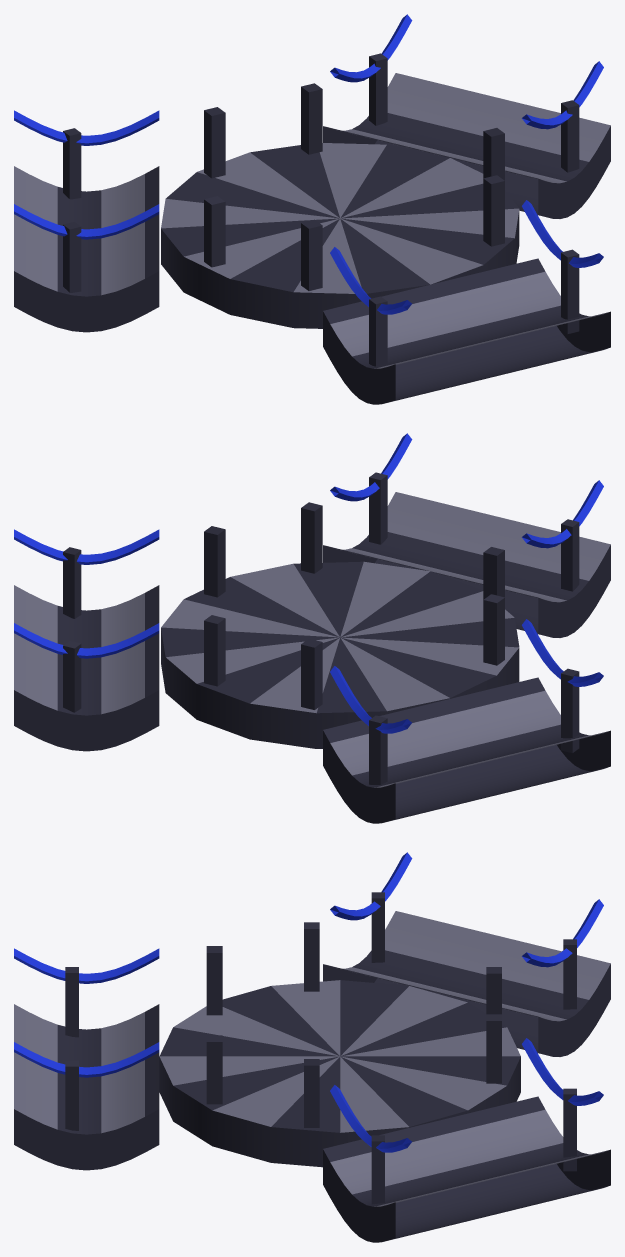
File: MODULE_HOLLOW_BRIDGE_PLATFORM.fbx
3 views of the same model, one above another, from view 1: azimuth 30°, elevation 25°; view 2: azimuth 150°, elevation 25°; view 3: azimuth 270°, elevation 25° (orthographic).
Parts seen in each view (by area): view 1: MODULE_HOLLOW_BRIDGE_PLATFORM__export, MODULE_HOLLOW_BRIDGE_PLATFORM_DECOR__export; view 2: MODULE_HOLLOW_BRIDGE_PLATFORM__export, MODULE_HOLLOW_BRIDGE_PLATFORM_DECOR__export; view 3: MODULE_HOLLOW_BRIDGE_PLATFORM__export, MODULE_HOLLOW_BRIDGE_PLATFORM_DECOR__export.
Part boxes in pixels (x1,y1,x2,y2): MODULE_HOLLOW_BRIDGE_PLATFORM__export: (14, 73, 610, 404); MODULE_HOLLOW_BRIDGE_PLATFORM_DECOR__export: (14, 14, 603, 366); MODULE_HOLLOW_BRIDGE_PLATFORM__export: (14, 492, 610, 823); MODULE_HOLLOW_BRIDGE_PLATFORM_DECOR__export: (14, 433, 603, 784); MODULE_HOLLOW_BRIDGE_PLATFORM__export: (14, 911, 610, 1242); MODULE_HOLLOW_BRIDGE_PLATFORM_DECOR__export: (14, 852, 603, 1204).
Size of the model in its own units: 61 by 12.1 by 52.83.
